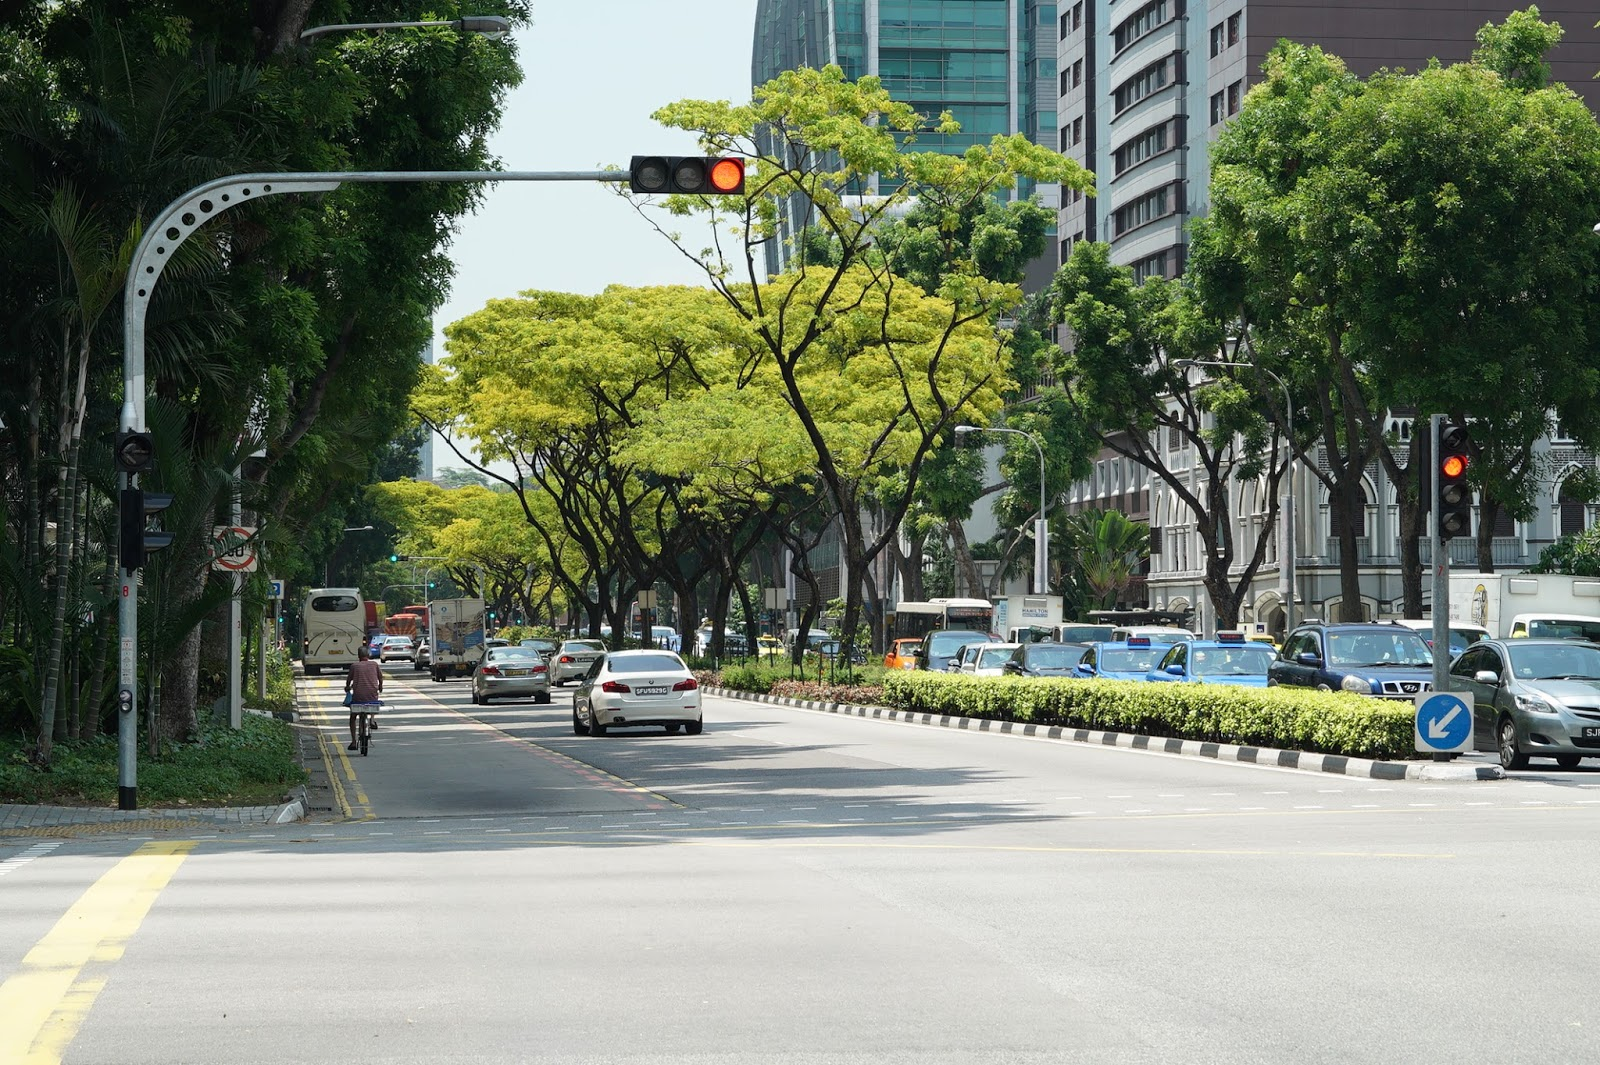pole: (1431, 414, 1449, 737), (116, 575, 139, 808), (228, 572, 242, 727)
tree: (18, 568, 102, 758), (820, 456, 887, 662), (1316, 445, 1377, 620), (771, 515, 820, 669), (165, 540, 201, 742), (1197, 506, 1243, 631), (1393, 467, 1422, 618), (719, 557, 757, 660), (669, 572, 703, 656), (1476, 456, 1497, 575)
tree branches: (264, 410, 326, 565)
vehicle: (1455, 642, 1600, 757), (1286, 625, 1429, 708), (571, 653, 708, 733), (1158, 639, 1279, 686), (304, 588, 365, 664), (428, 600, 487, 678), (475, 648, 549, 702), (1082, 644, 1155, 678), (552, 642, 606, 676), (1018, 645, 1076, 675), (383, 637, 412, 661)
